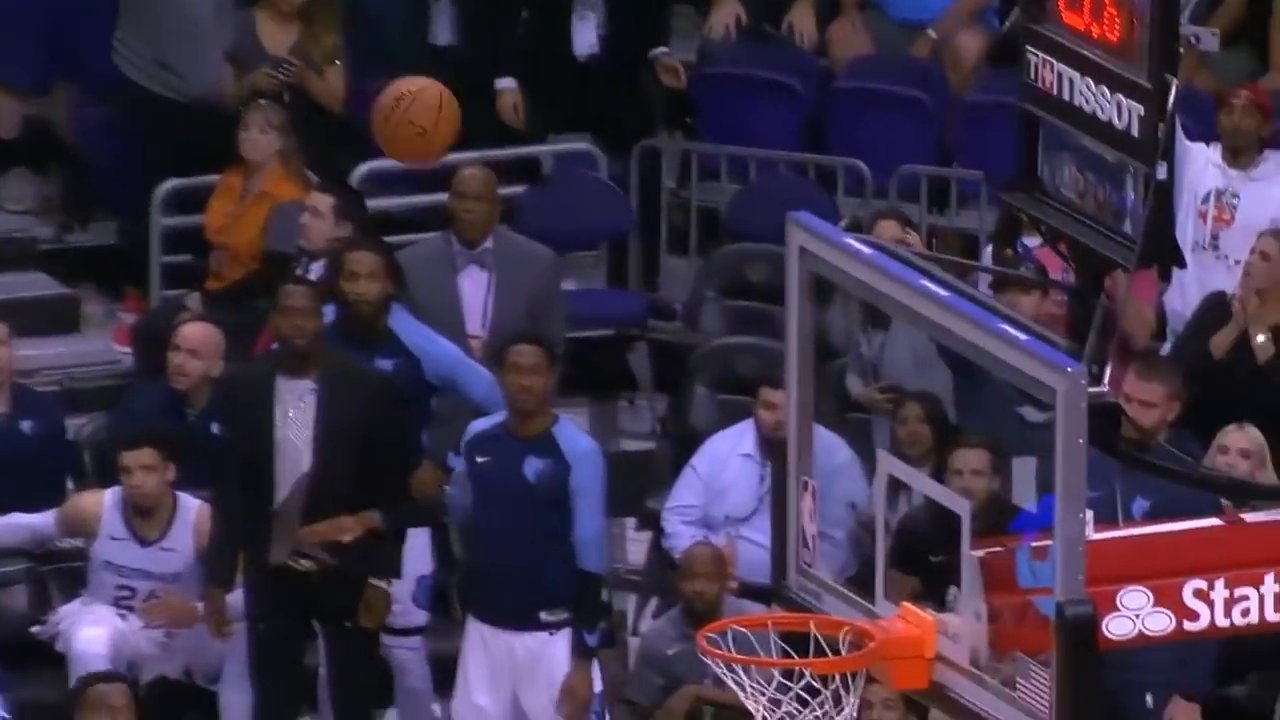ball: (367, 73, 463, 167)
